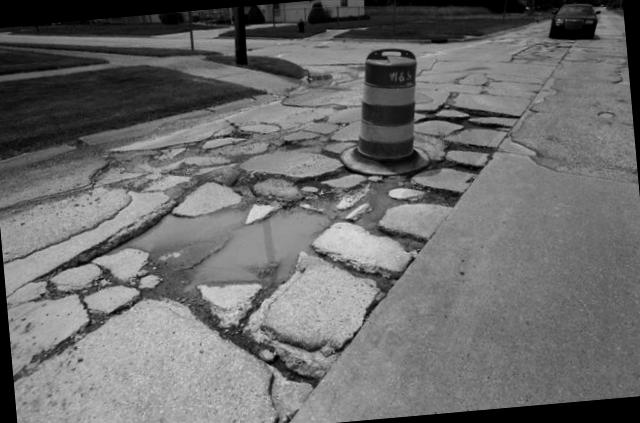Pothole: (97, 76, 560, 363)
